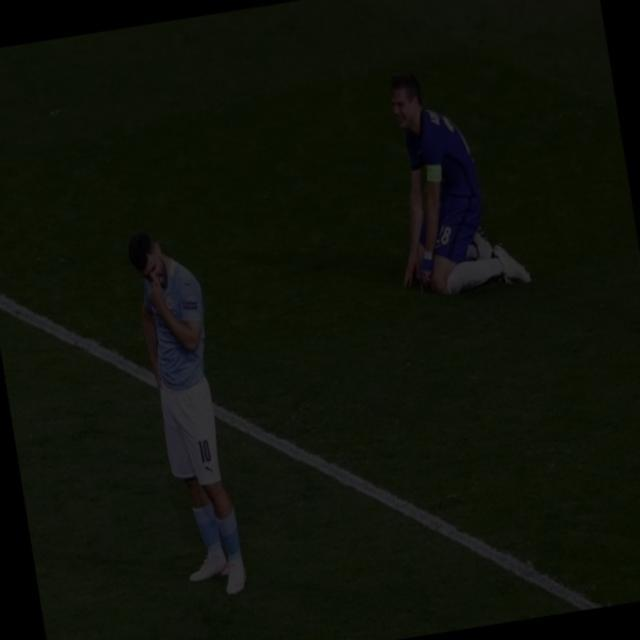Sad: (89, 195, 229, 355), (353, 52, 459, 160)
